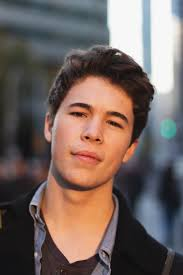bare: (48, 125, 126, 190)
